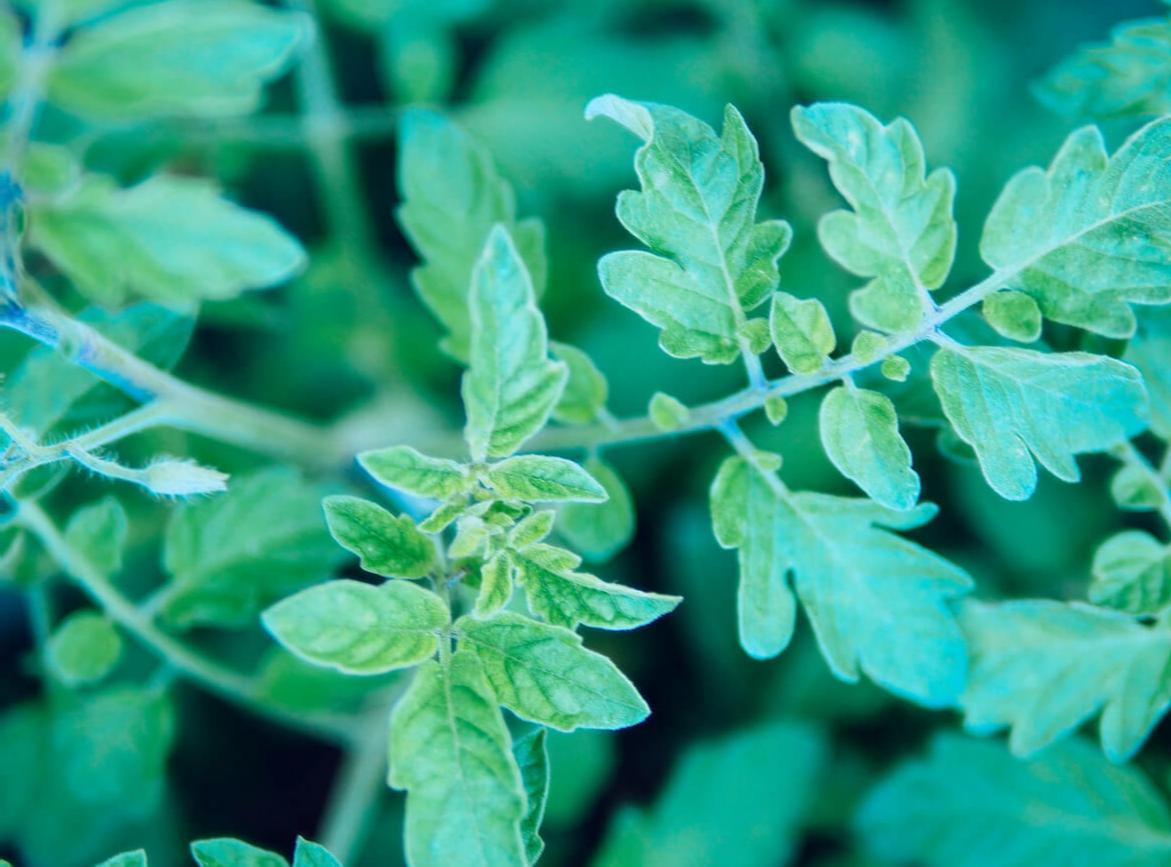Tomato leaf: (703, 427, 965, 717), (584, 70, 790, 385), (973, 111, 1171, 344), (924, 327, 1164, 504), (807, 55, 945, 355), (439, 611, 669, 745), (388, 636, 518, 867), (452, 223, 564, 476), (258, 574, 447, 674)
